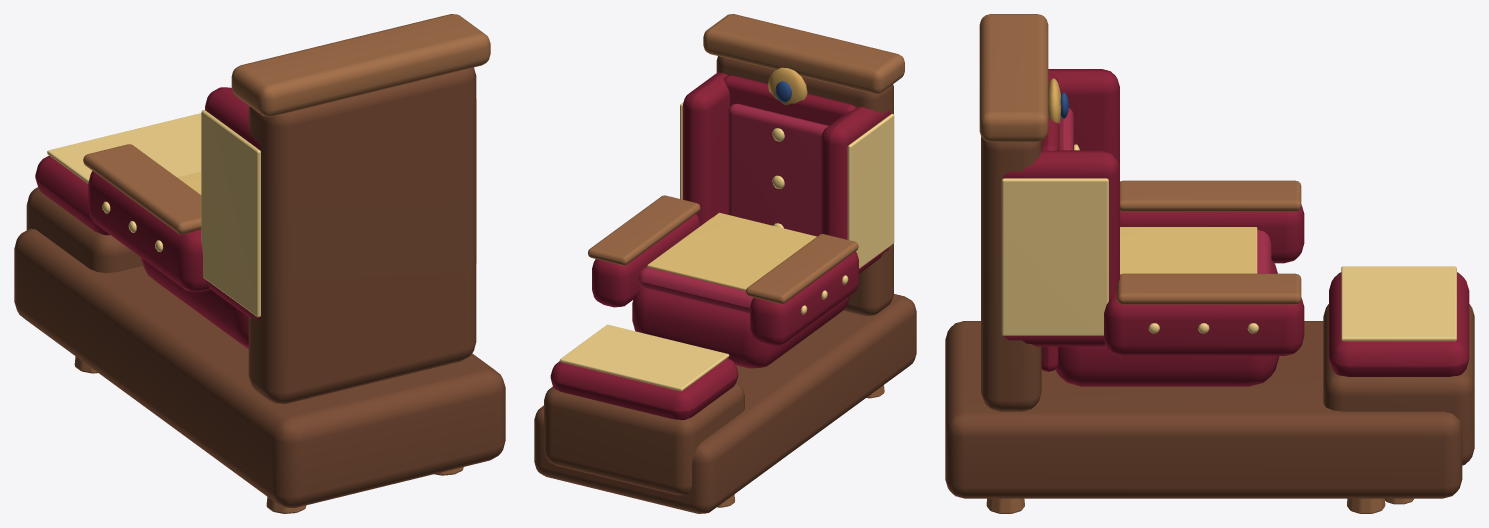
Rendered from poltrona_luxo.glb.
3 renders of one model, left to right at view 1: azimuth 30°, elevation 25°; view 2: azimuth 150°, elevation 25°; view 3: azimuth 270°, elevation 25°, orthographic. The views are drawn at different scales.
Visible parts, largest first — view 1: Poltrona | base de nogueira; view 2: Poltrona | base de nogueira; view 3: Poltrona | base de nogueira.
Part boxes in pixels (x1,y1,x2,y2): Poltrona | base de nogueira: [14, 14, 505, 513]; Poltrona | base de nogueira: [534, 14, 916, 513]; Poltrona | base de nogueira: [945, 14, 1474, 513].
Bounding box in the file's own units: 1.03 × 1.63 × 1.93.
